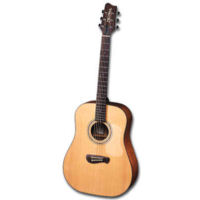guitar: (62, 2, 141, 198)
